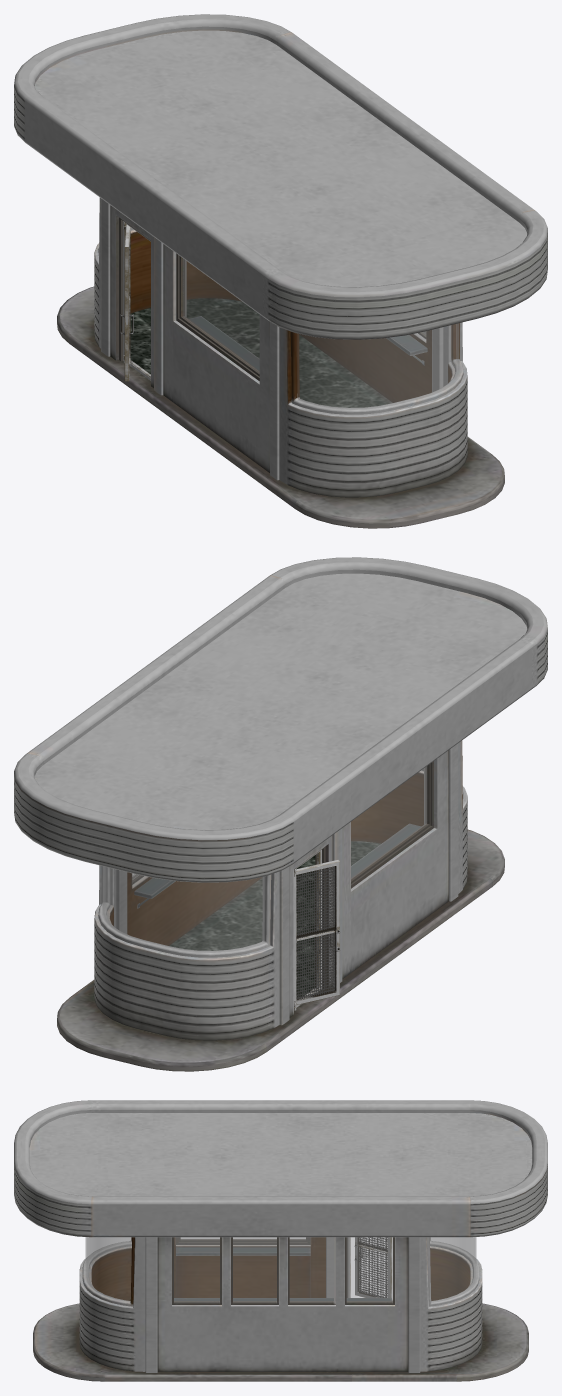
File: security_room_optimised.glb
3 renders of one model, top to bottom at view 1: azimuth 30°, elevation 25°; view 2: azimuth 150°, elevation 25°; view 3: azimuth 270°, elevation 25°, orthographic. The views are drawn at different scales.
Visible parts, largest first — view 1: part3, part2, part4, part0; view 2: part3, part2, part4, part0; view 3: part3, part2, part4, part0.
Boxes of the visible parts, x1=… form: part3: x1=14, y1=14, x2=547, y2=497; part2: x1=57, y1=198, x2=504, y2=528; part4: x1=183, y1=259, x2=459, y2=408; part0: x1=120, y1=224, x2=133, y2=381; part3: x1=14, y1=557, x2=547, y2=1040; part2: x1=57, y1=743, x2=504, y2=1071; part4: x1=102, y1=766, x2=426, y2=951; part0: x1=294, y1=860, x2=340, y2=1007; part3: x1=14, y1=1100, x2=547, y2=1371; part2: x1=33, y1=1237, x2=528, y2=1381; part4: x1=85, y1=1237, x2=476, y2=1301; part0: x1=354, y1=1237, x2=392, y2=1300.
Size of the model in its own units: 2.94 by 2.6 by 6.49.
5 materials, 4 textured.
